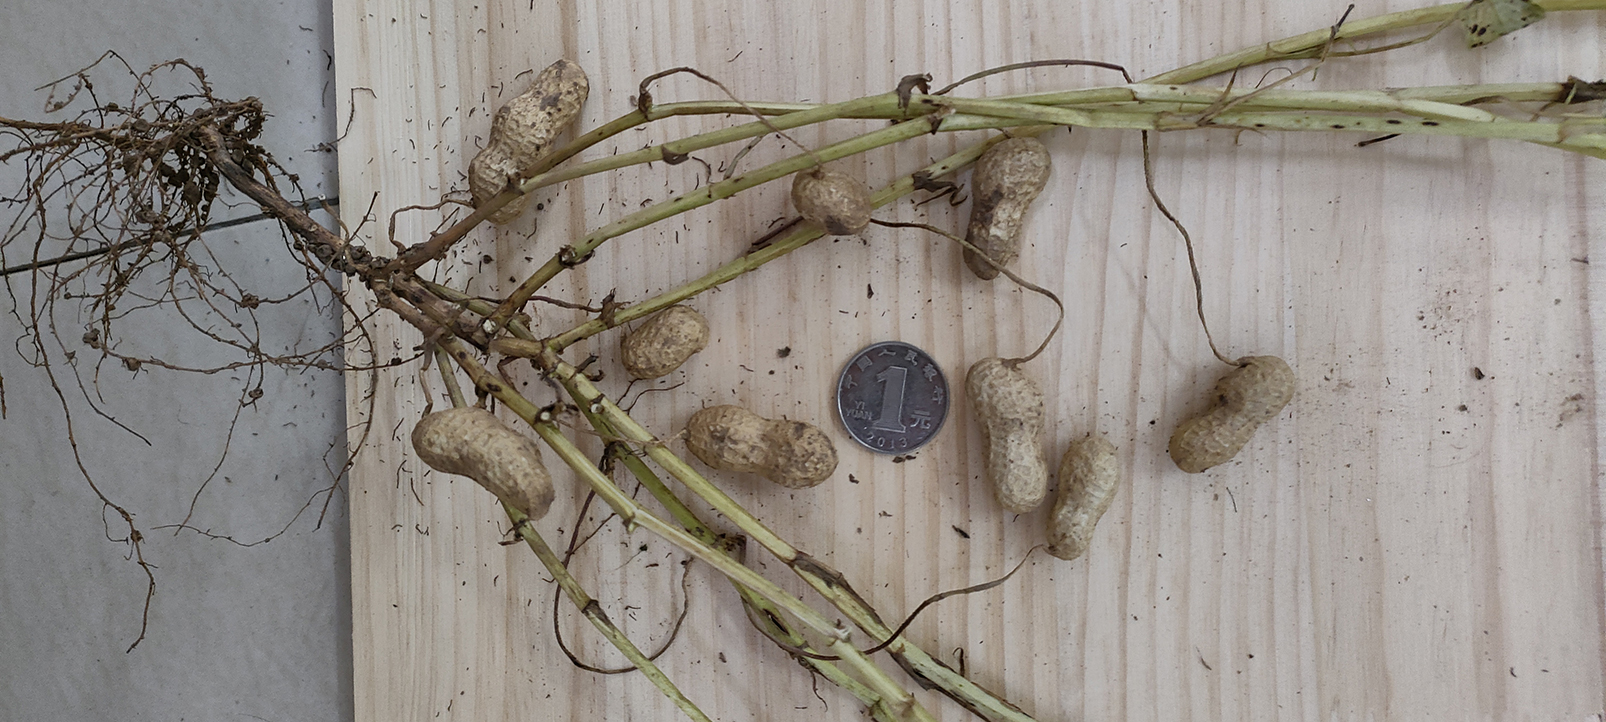h: (468, 57, 590, 222), (411, 406, 554, 523), (1169, 356, 1296, 473), (964, 354, 1054, 512), (686, 406, 838, 489), (1047, 432, 1121, 563), (623, 304, 709, 381), (795, 167, 873, 232)
l: (964, 136, 1050, 281)
